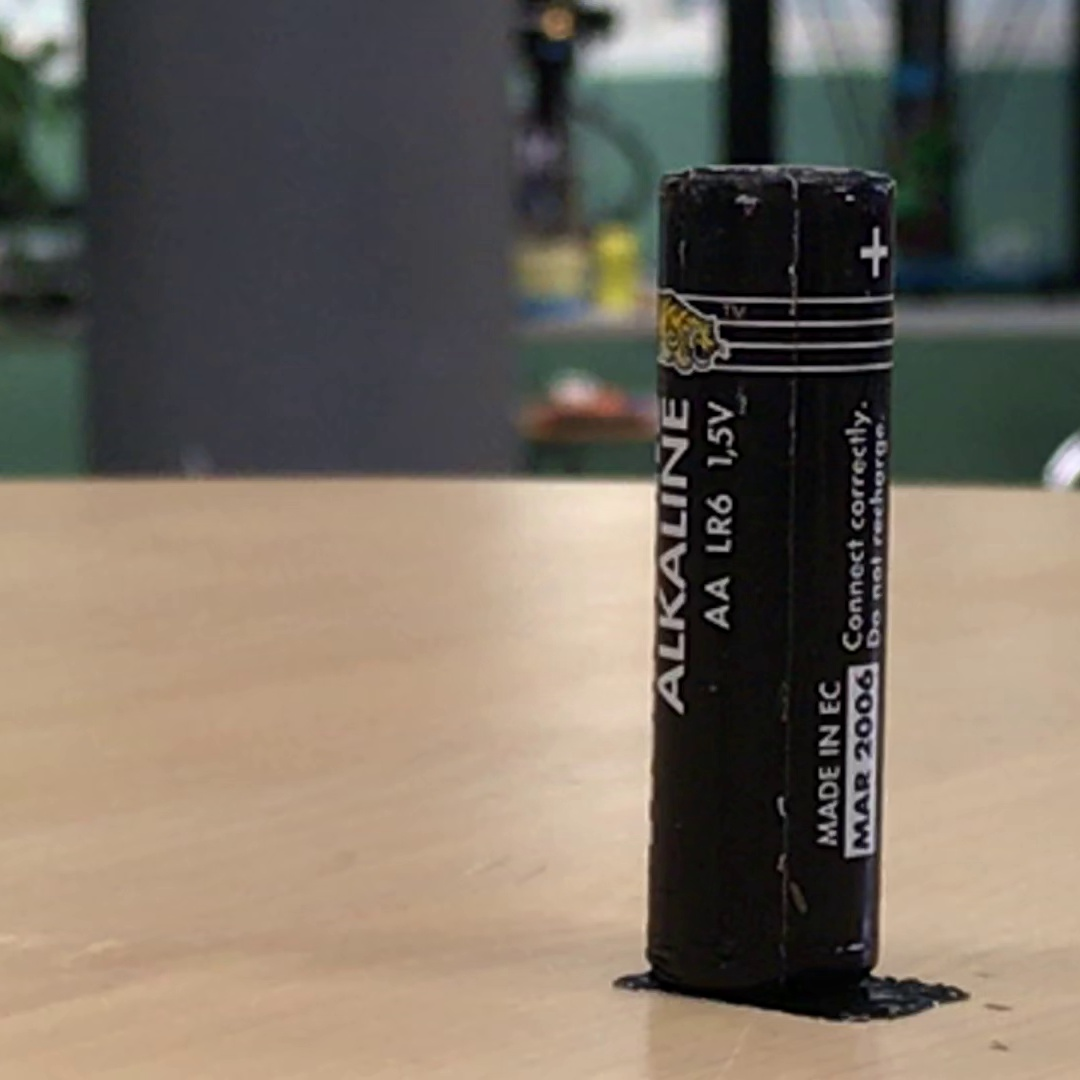keyword: (652, 389, 694, 723)
